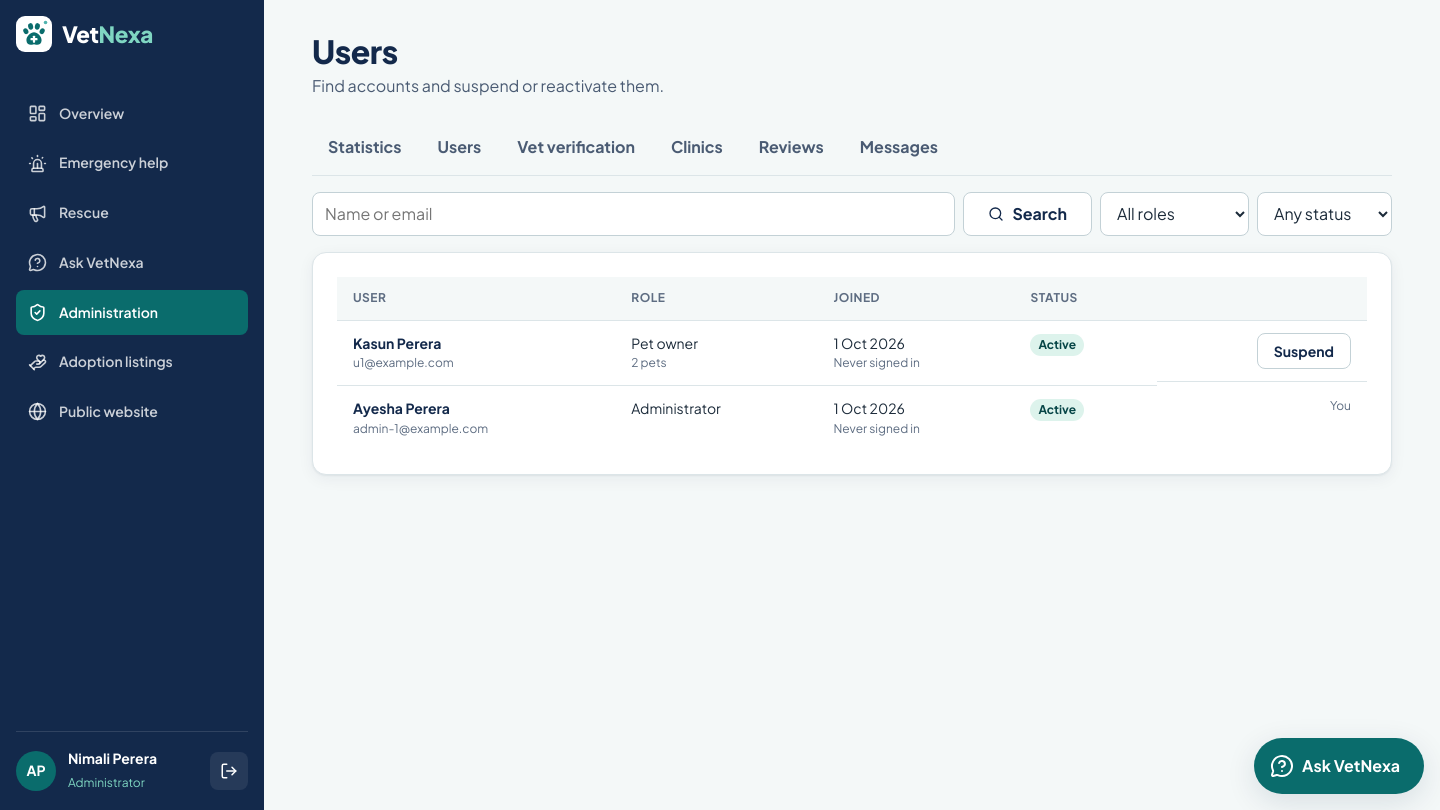
it: administration › suspends a user after confirmation, but never the admin themself
Expected: the text "You" is shown, [1330,397,1351,416]
Click the button "Suspend" at x=1304, y=351, box [1257,333,1351,369]
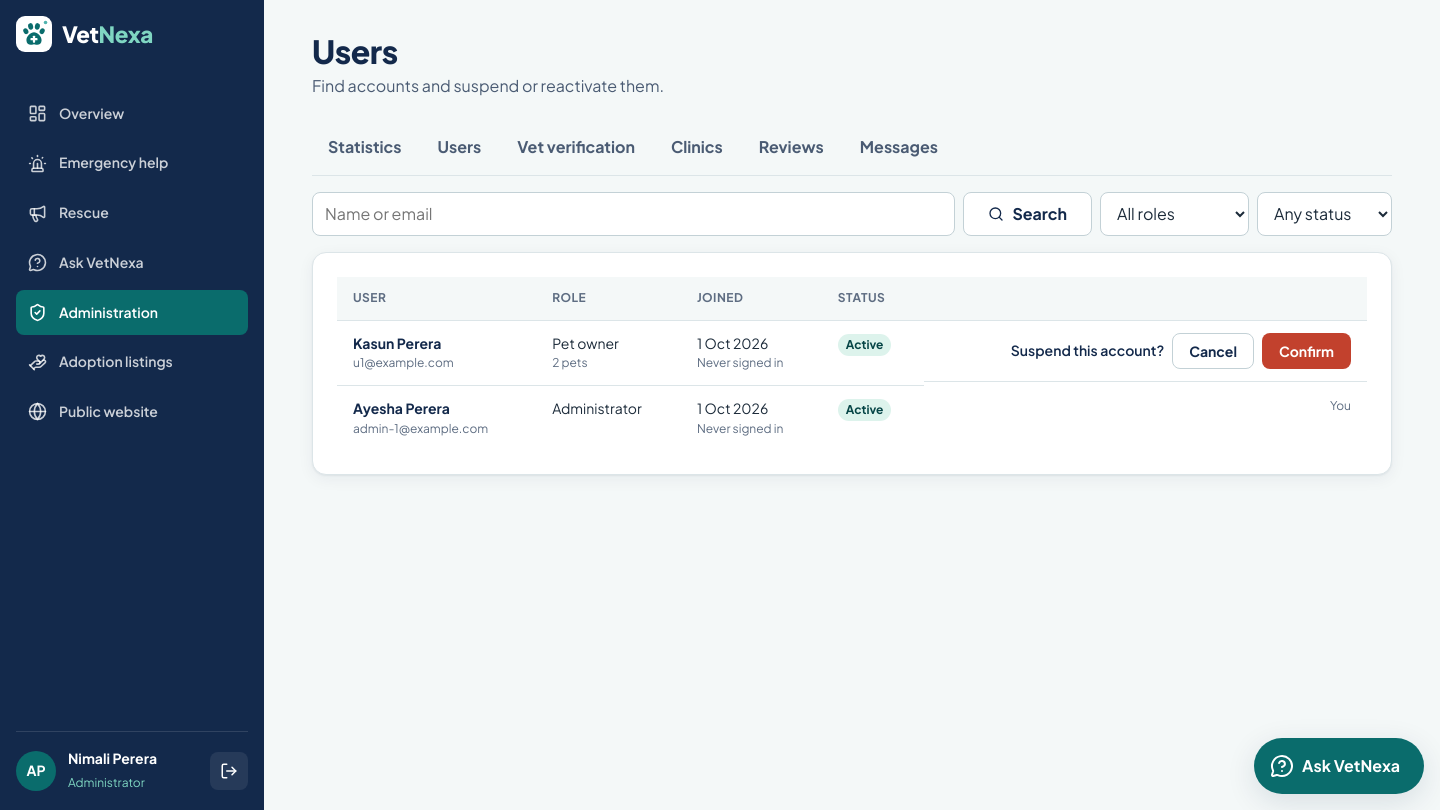
Expected: the text "Suspend this account?" is shown, [1011,341,1164,359]
Click the button "Confirm" at x=1306, y=351, box [1262,333,1351,369]
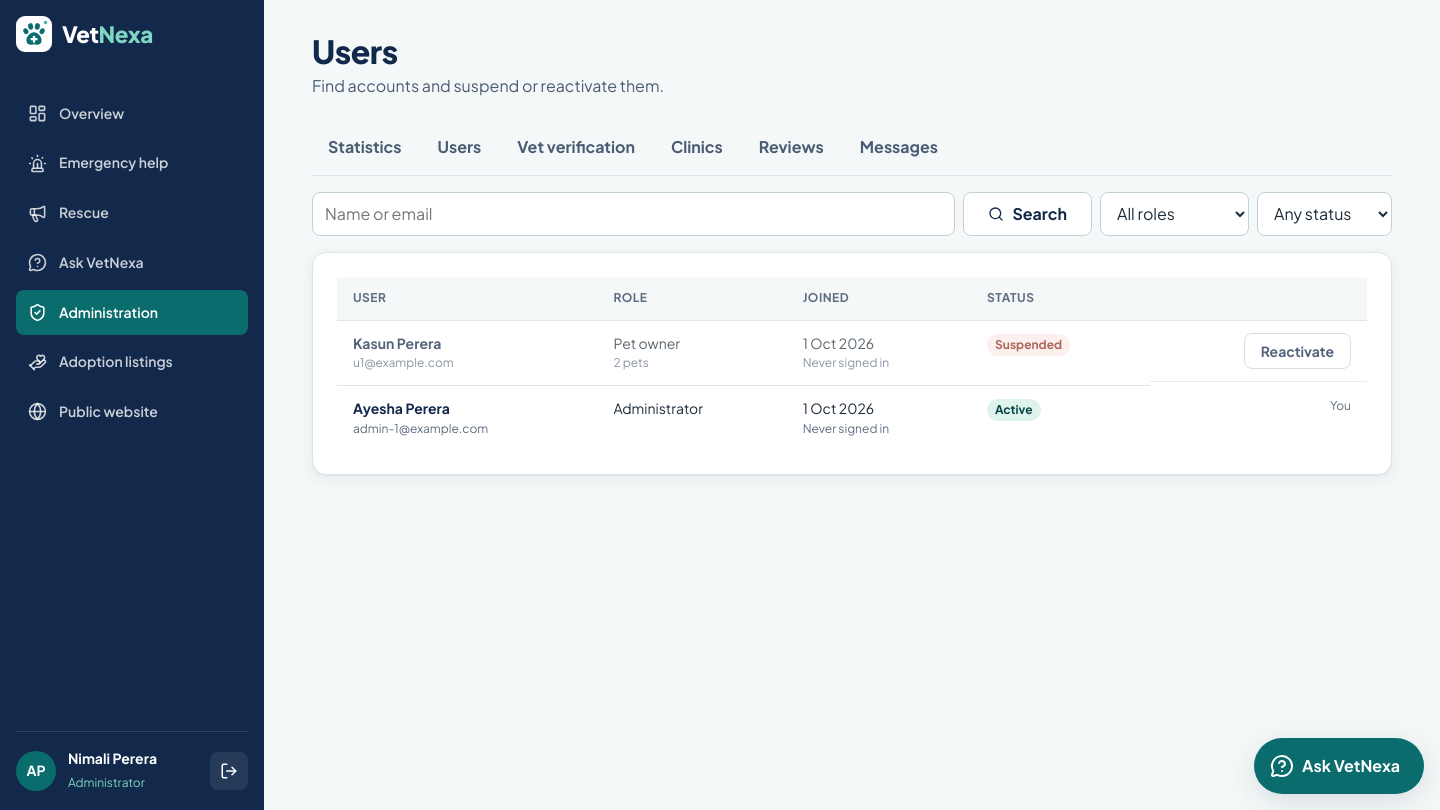
Expected: the text "Suspended" is shown, [987,334,1070,356]
